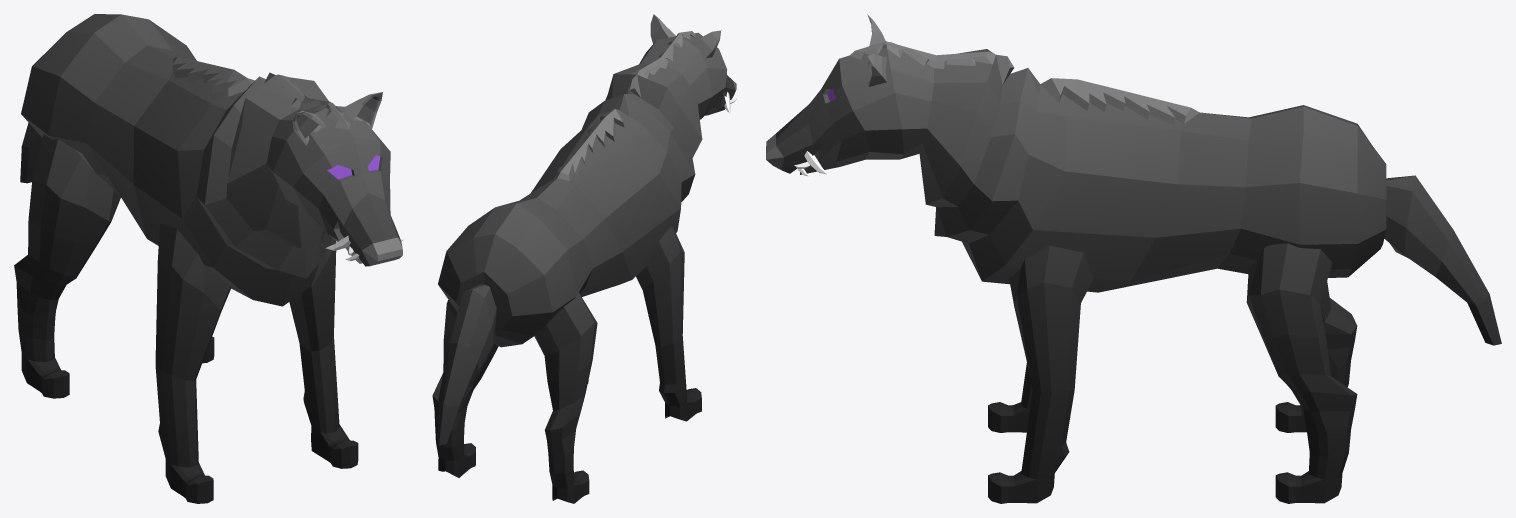
Rendered from stonedog.fbx.
The picture shows the model from 3 angles, left to right: view 1: azimuth 30°, elevation 25°; view 2: azimuth 150°, elevation 25°; view 3: azimuth 270°, elevation 25°; orthographic projection. The views are drawn at different scales.
Parts seen in each view (by area): view 1: Wolf; view 2: Wolf; view 3: Wolf.
Part boxes in pixels (x1,y1,x2,y2): Wolf: [14, 14, 403, 503]; Wolf: [432, 14, 736, 503]; Wolf: [766, 14, 1501, 503].
Bounding box in the file's own units: 152 × 354 × 552.
1 material, 1 textured.
